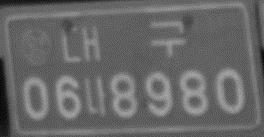0: (215, 66, 245, 116), (22, 75, 50, 120)
6: (54, 74, 82, 120)
8: (178, 69, 209, 117), (110, 71, 139, 119)
9: (144, 71, 173, 116)
나: (81, 74, 110, 120)
대구_D: (60, 18, 188, 65)
영: (20, 27, 54, 67)
